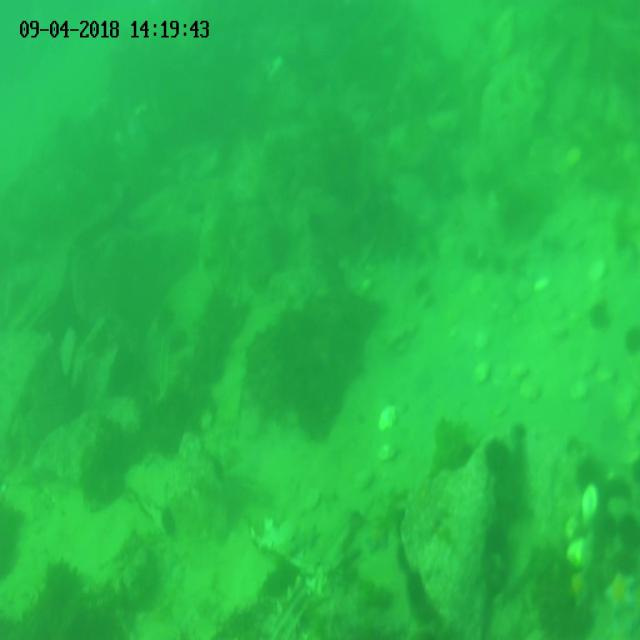echinus: (484, 436, 512, 474), (406, 574, 428, 604), (621, 512, 640, 546), (590, 307, 610, 333), (492, 254, 508, 278)
scallop: (567, 534, 595, 572), (60, 330, 78, 379), (582, 486, 600, 526), (353, 467, 375, 493), (377, 402, 398, 429), (520, 382, 543, 404), (510, 360, 529, 384), (597, 361, 619, 381), (474, 360, 492, 384), (587, 262, 607, 283), (377, 444, 398, 464), (568, 381, 590, 400), (564, 147, 582, 168)
starfish: (605, 564, 638, 610), (564, 570, 594, 606)
